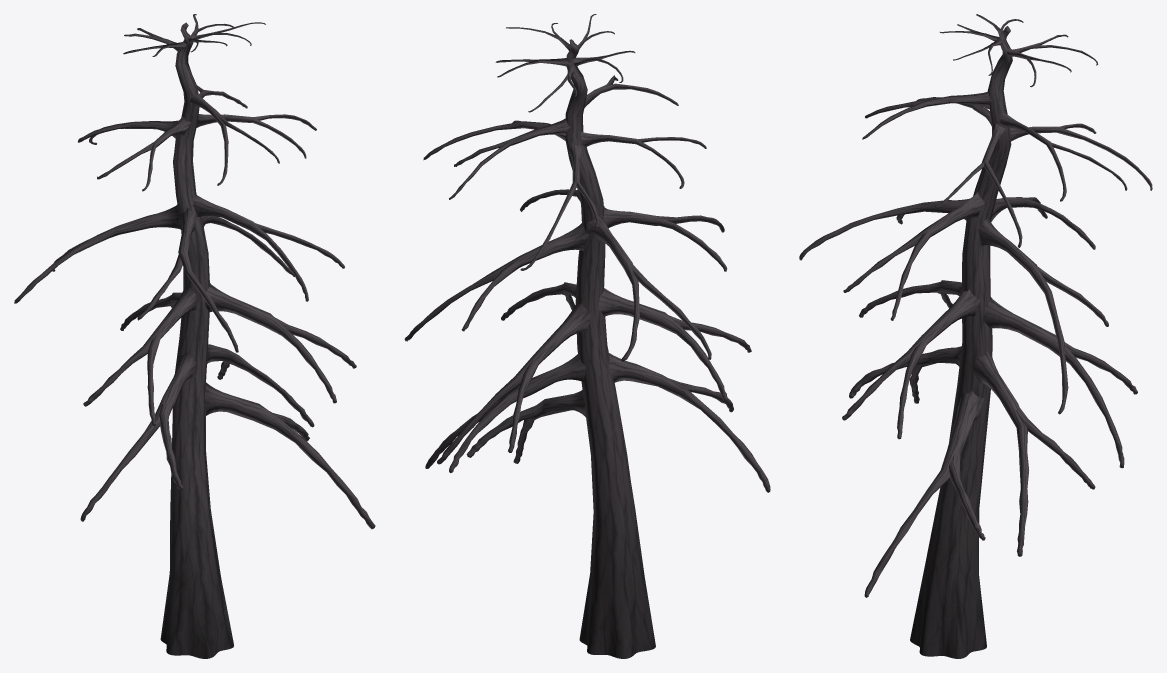
Rendered from dead-tree-2.glb.
3 views of the same model, side by side, from view 1: azimuth 30°, elevation 25°; view 2: azimuth 150°, elevation 25°; view 3: azimuth 270°, elevation 25° (orthographic). The views are drawn at different scales.
Visible parts, largest first — view 1: DeadTree_5; view 2: DeadTree_5; view 3: DeadTree_5.
Boxes of the visible parts, box(x1,y1,x2,y2) form: DeadTree_5: box(14, 14, 375, 658); DeadTree_5: box(404, 14, 770, 658); DeadTree_5: box(799, 14, 1152, 658).
Size of the model in its own units: 8.36 by 16.44 by 8.41.
Materials: 1 (1 with a texture image).
